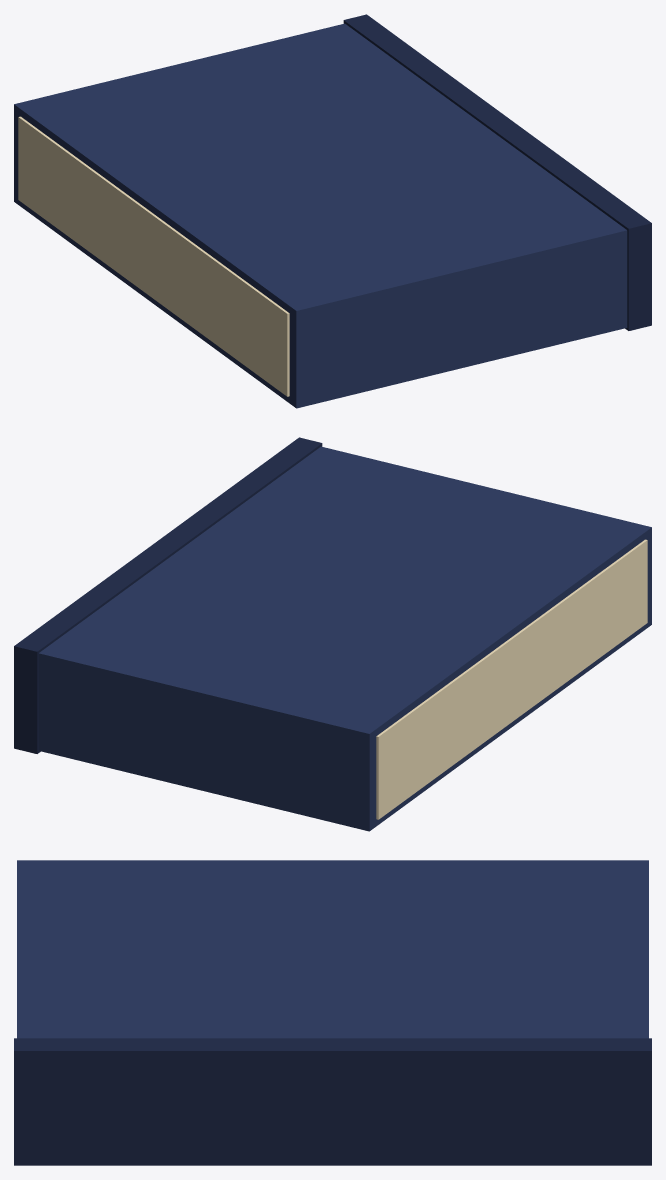
Rendered from book.fbx.
The picture shows the model from 3 angles, top to bottom: view 1: azimuth 30°, elevation 25°; view 2: azimuth 150°, elevation 25°; view 3: azimuth 270°, elevation 25°; orthographic projection. The views are drawn at different scales.
Visible parts, largest first — view 1: book; view 2: book; view 3: book.
Part boxes in pixels (<box>): book: <box>14,14,651,408</box>; book: <box>14,437,651,831</box>; book: <box>14,860,651,1165</box>.
Size of the model in its own units: 0.612 by 0.168 by 0.848.
